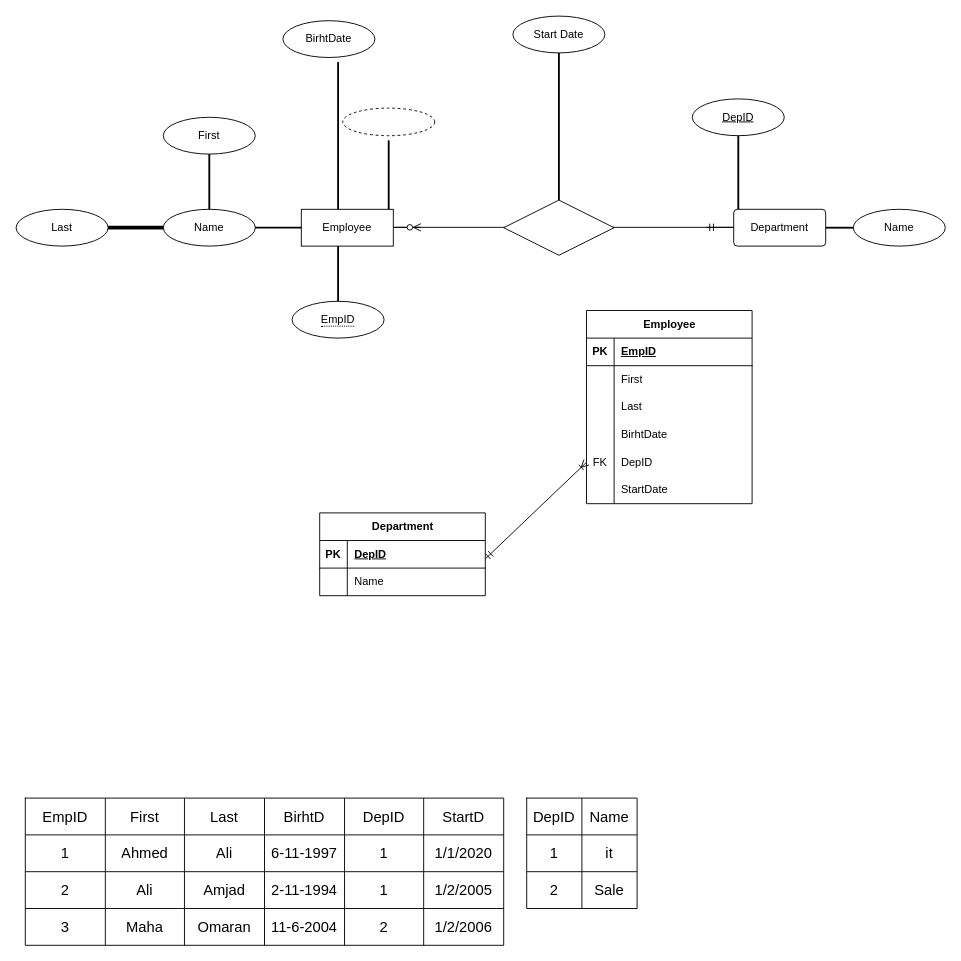
Some shapes in this 961 by 961 pixel diagram are drawn without their labels. Here are the shapes that lost their labels. From the top down, the centre of each, then its label:
At point (388, 121): "Age".
At point (558, 227): "Work is".
